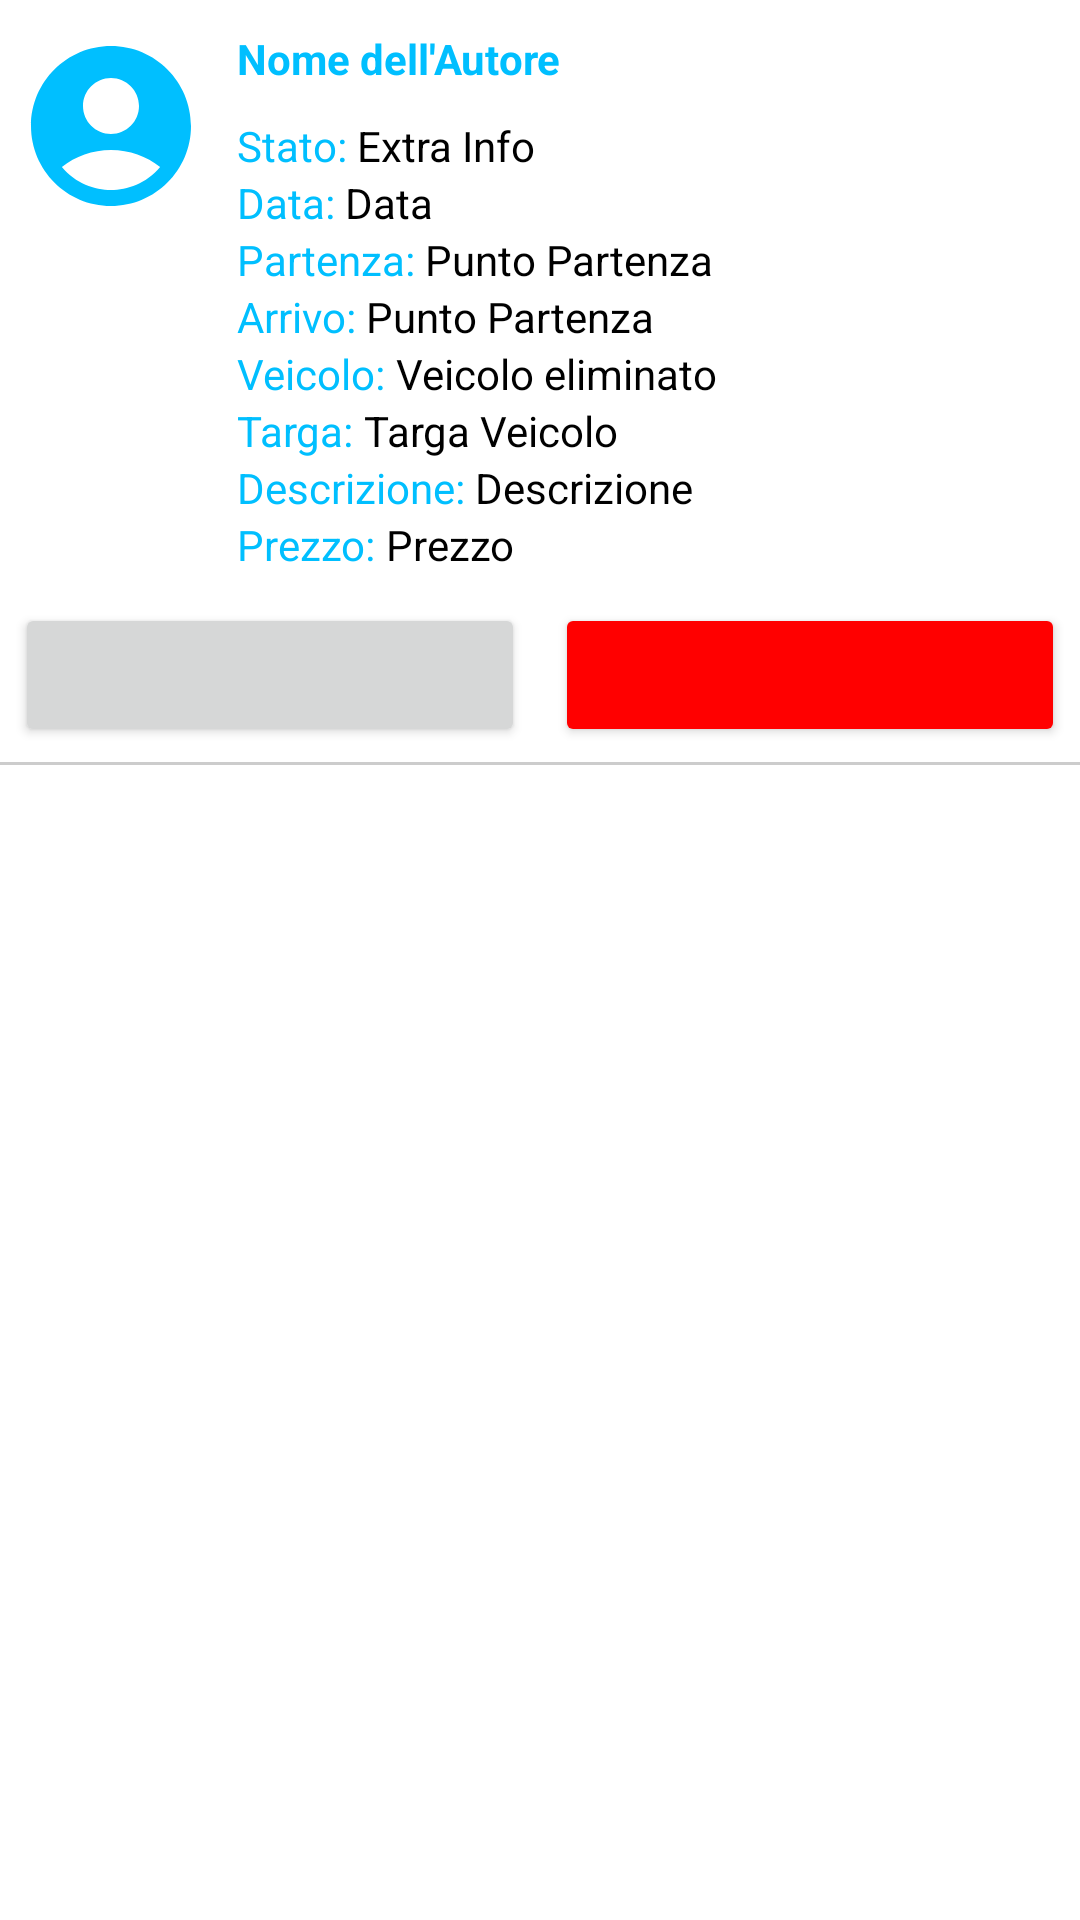

Icons on this 1080w x 1920h Android screen, each with its box as [left=x1, top=y1, right=x2, bottom=y2]:
account circle app theme: [left=30, top=46, right=191, bottom=206]
